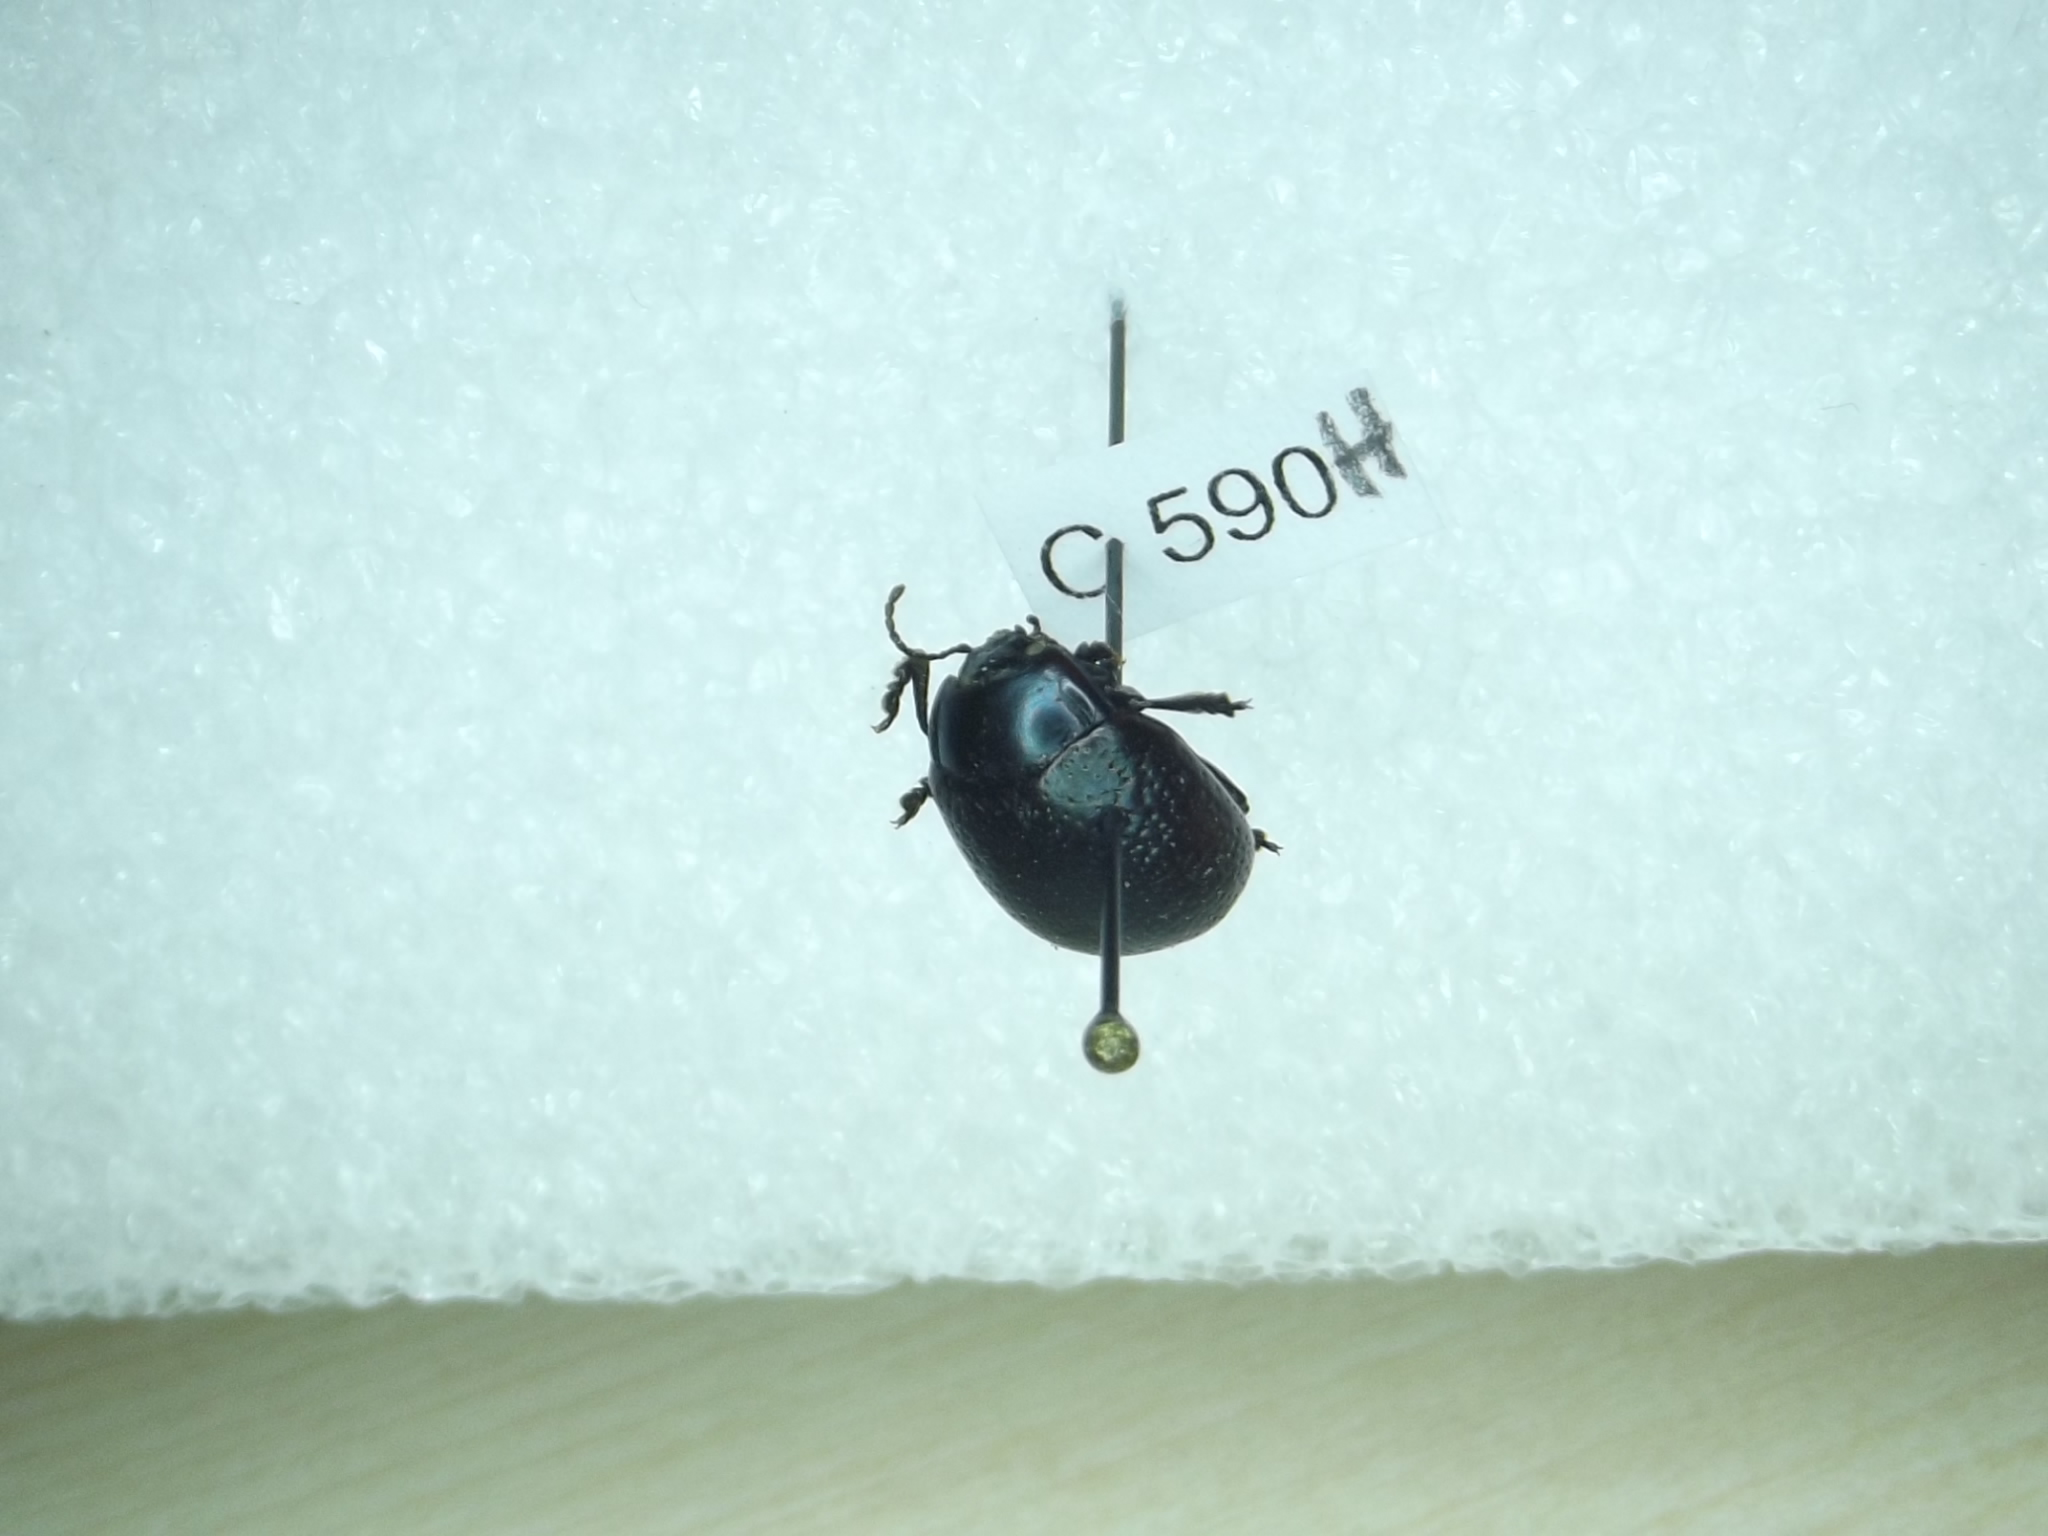Chrysolina_oricalcia: (864, 579, 1290, 966)
